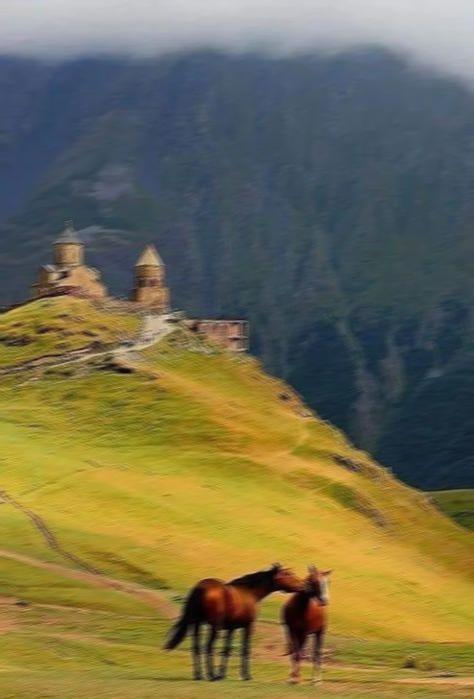horse: (160, 560, 308, 681), (279, 562, 333, 685)
